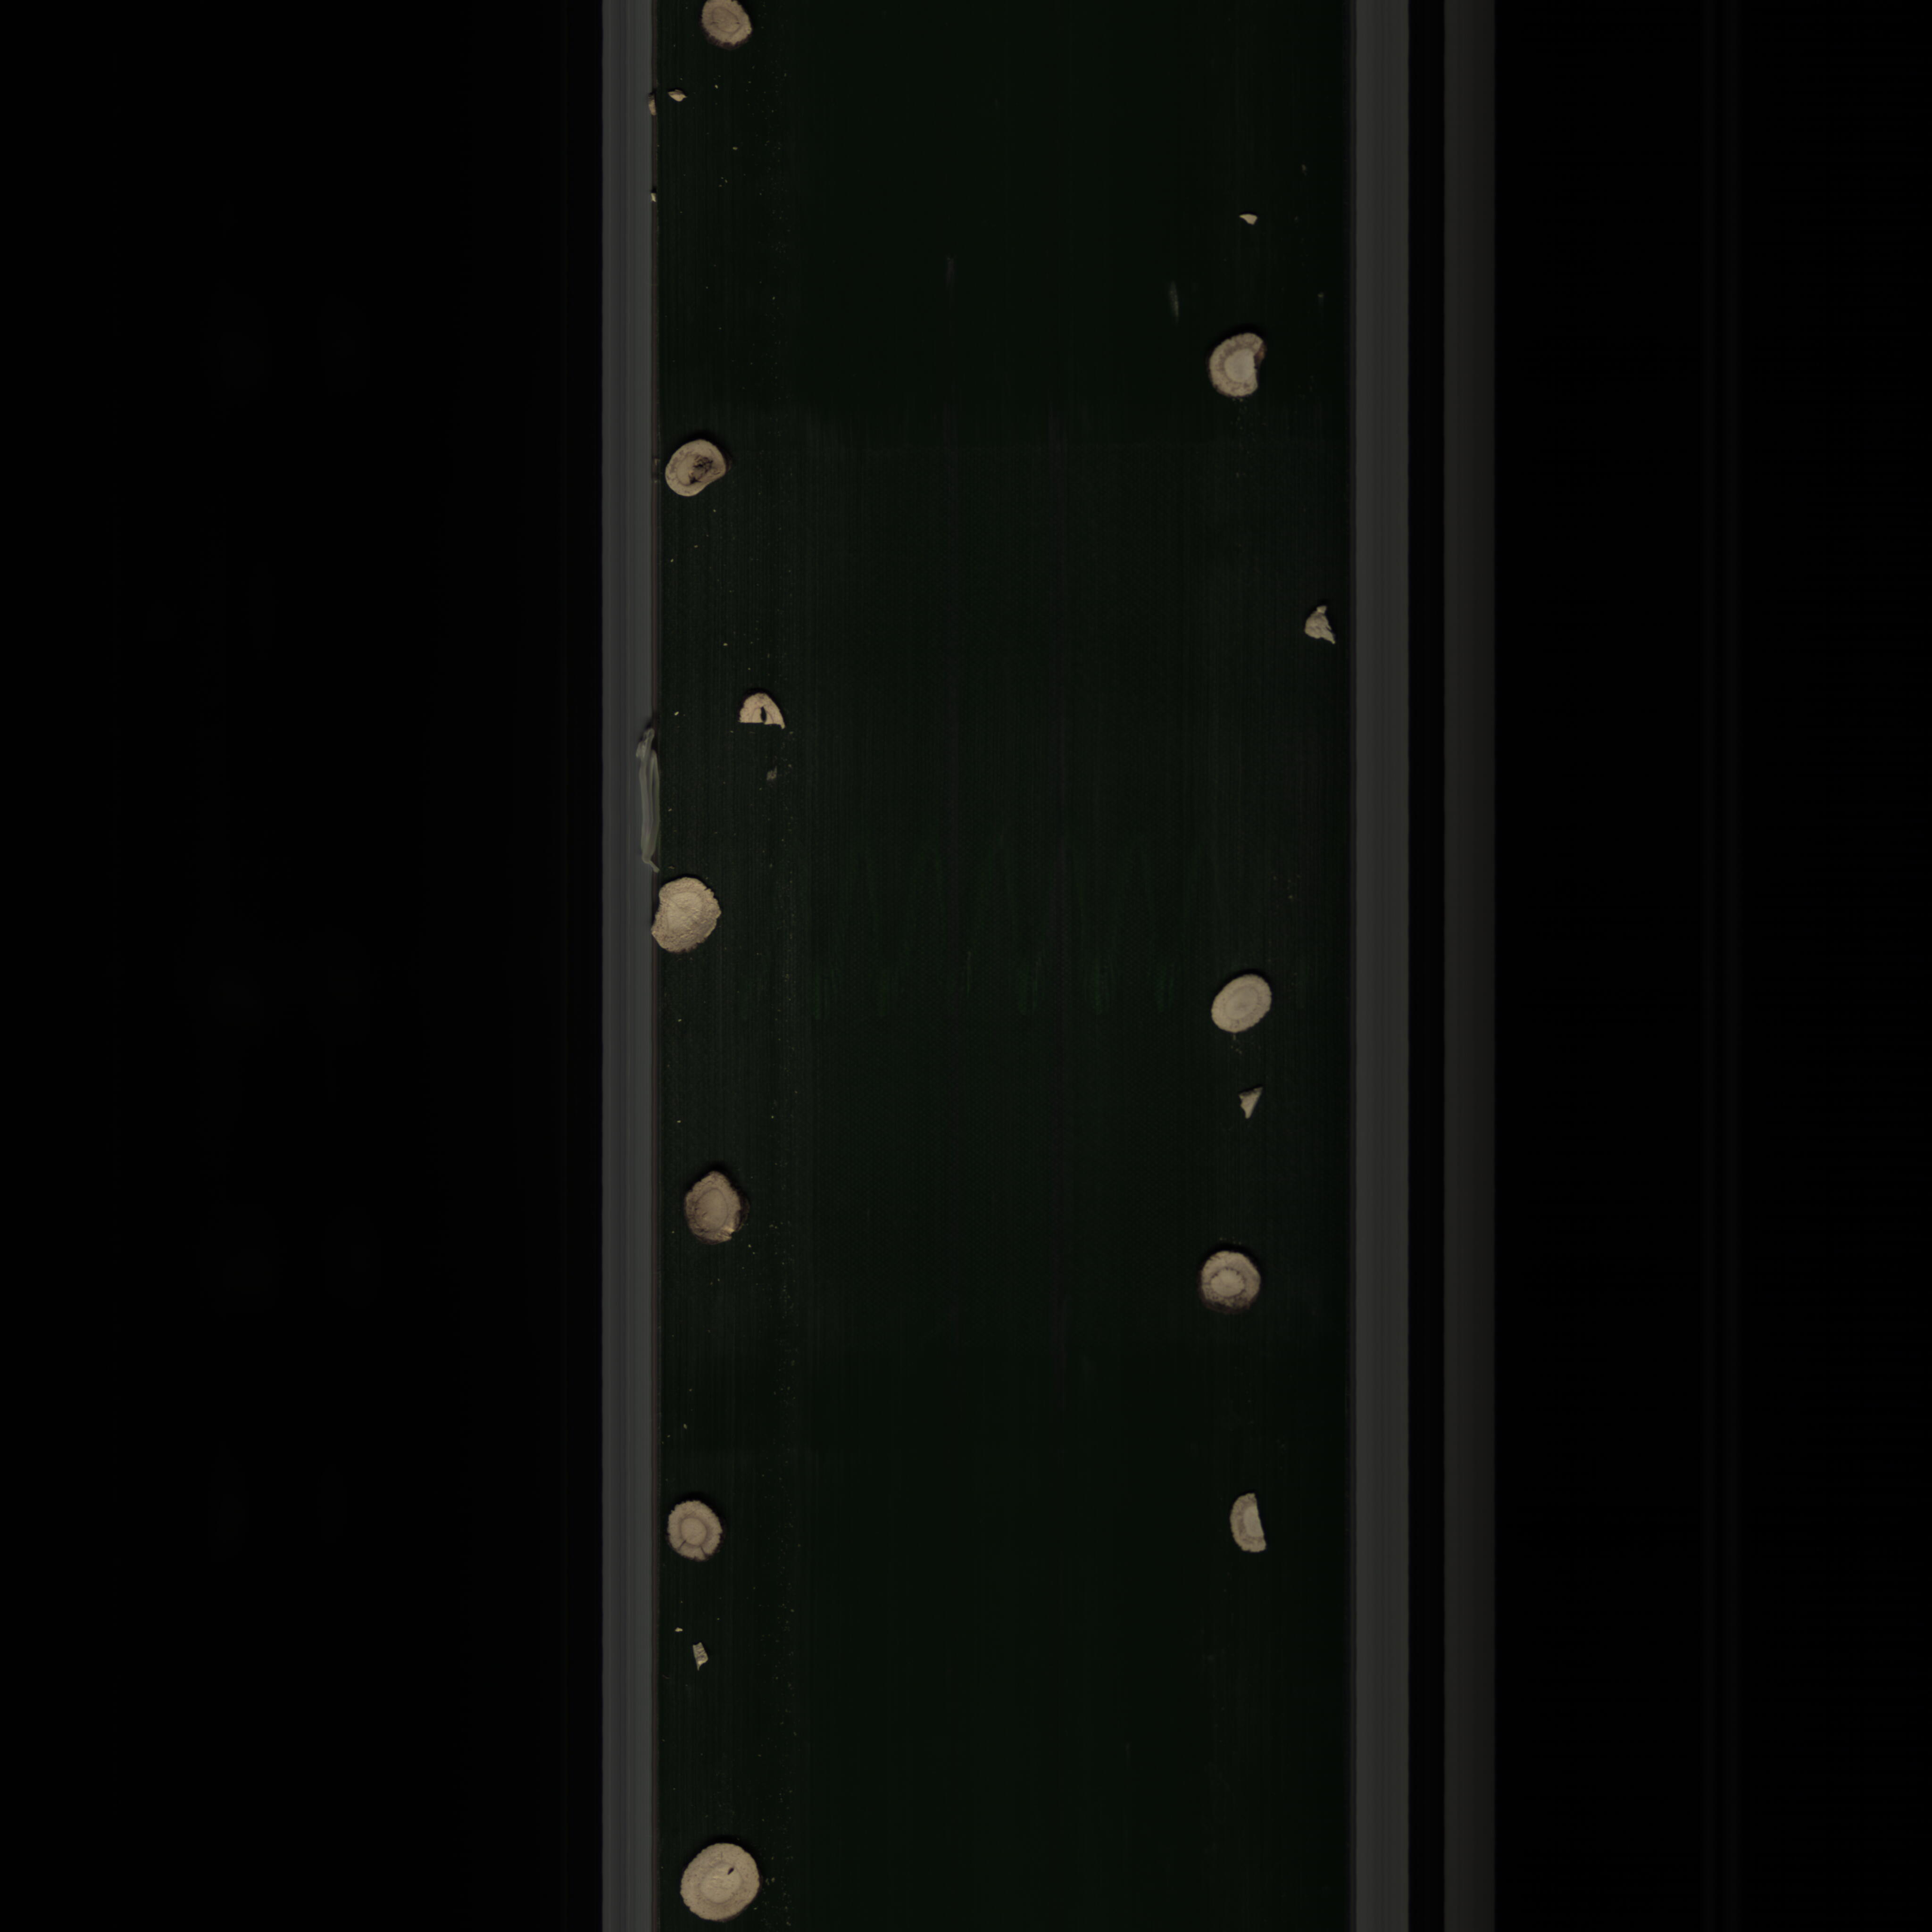debris: (1200, 322, 1272, 409), (732, 683, 796, 740), (1228, 1484, 1269, 1571), (1297, 596, 1345, 656), (1235, 1081, 1267, 1120)
moldy: (679, 1162, 748, 1256), (662, 437, 741, 501)
